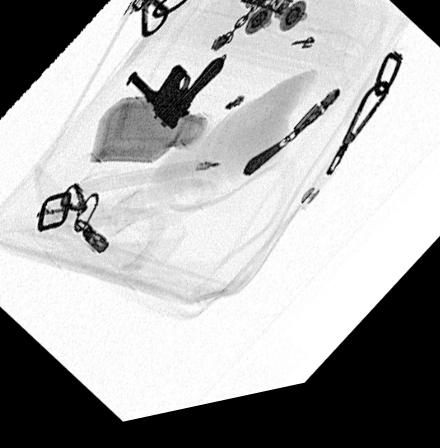Gun: (120, 65, 224, 140)
